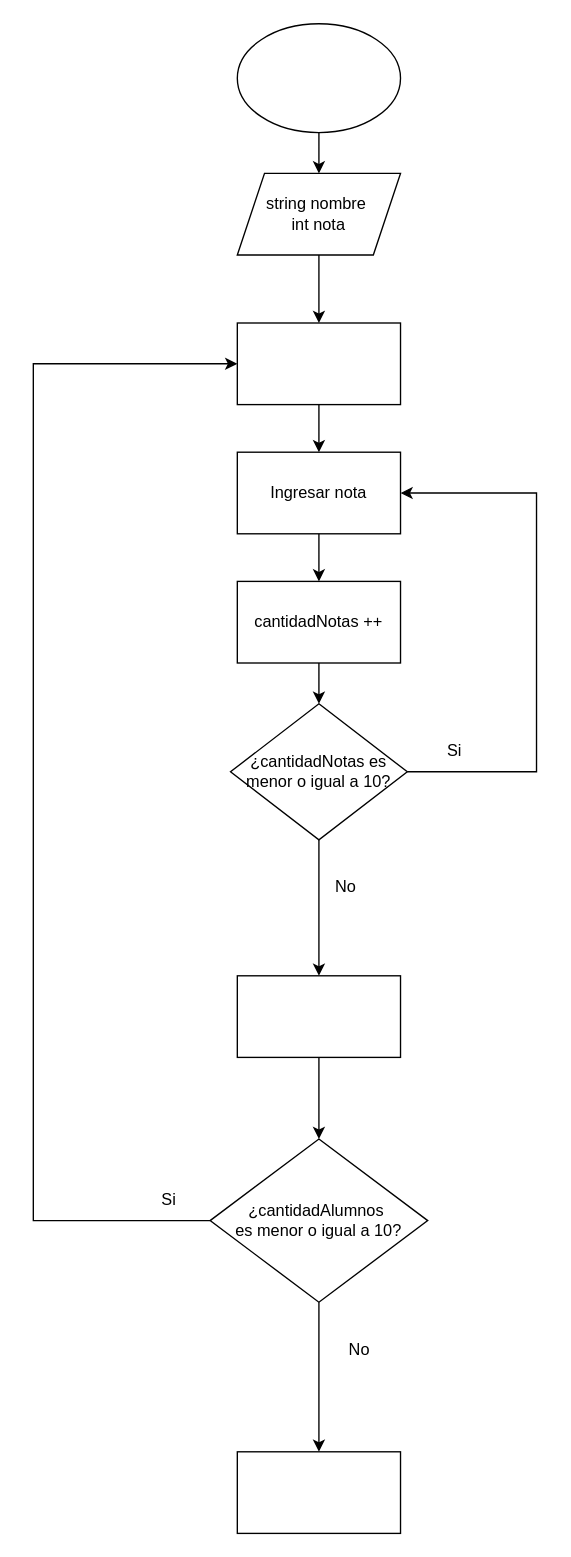
Image size: 571x1557. Some labels were removed from this diagram. Here are the shapes that lost their labels. From the top down, the centre of each, then its label:
pixel 318 77: Inicio
pixel 318 363: Ingresar nombre del alumno
pixel 318 1015: cantidadAlumnos ++
